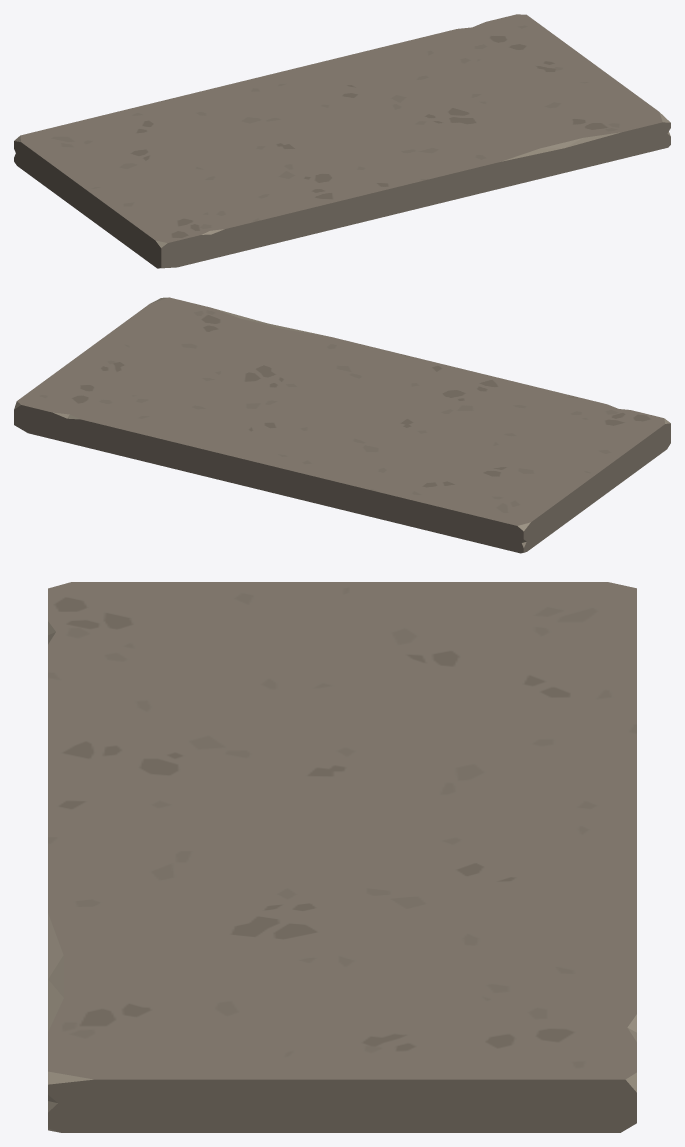
Rendered from SM_Bld_Concrete_Floor_02.fbx.
3 renders of one model, top to bottom at view 1: azimuth 30°, elevation 25°; view 2: azimuth 150°, elevation 25°; view 3: azimuth 270°, elevation 25°, orthographic. The views are drawn at different scales.
Visible parts, largest first — view 1: SM_Bld_Concrete_Floor_02; view 2: SM_Bld_Concrete_Floor_02; view 3: SM_Bld_Concrete_Floor_02.
Part boxes in pixels (x1=…): SM_Bld_Concrete_Floor_02: x1=14, y1=14, x2=670, y2=268; SM_Bld_Concrete_Floor_02: x1=14, y1=297, x2=670, y2=553; SM_Bld_Concrete_Floor_02: x1=48, y1=582, x2=636, y2=1132.
Size of the model in its own units: 1000 by 50 by 500.
